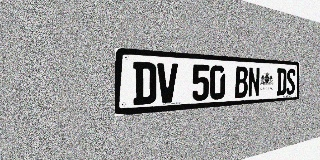0: (210, 65, 225, 100)
5: (192, 64, 209, 101)
B: (235, 66, 248, 98)
D: (133, 61, 156, 105), (277, 68, 286, 95)
N: (248, 67, 260, 97)
S: (286, 68, 295, 95)
V: (157, 63, 178, 104)
